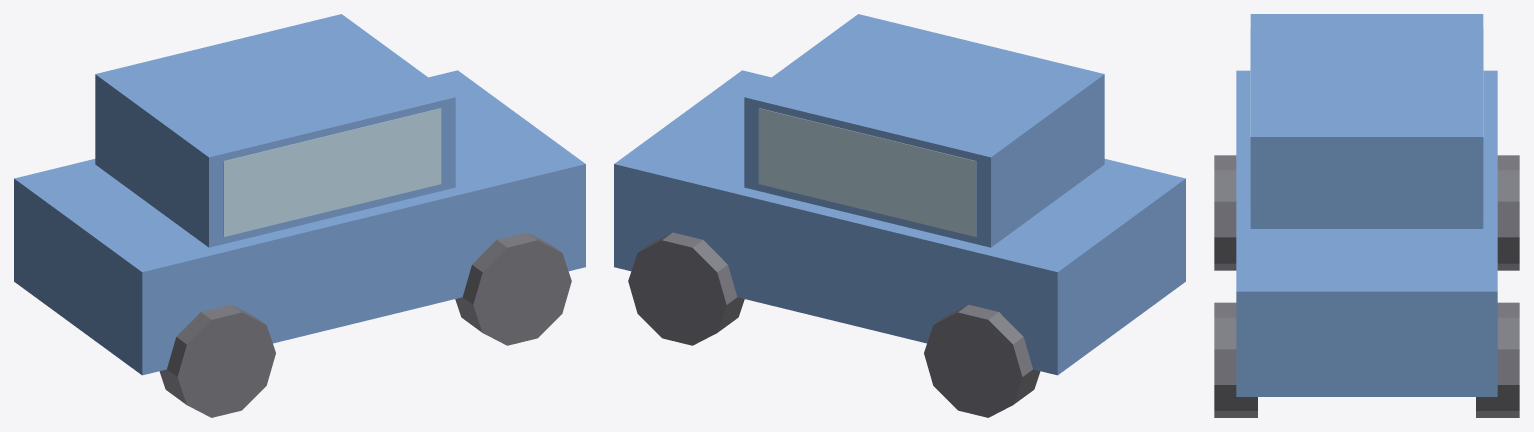
File: auto.glb
The picture shows the model from 3 angles, left to right: view 1: azimuth 30°, elevation 25°; view 2: azimuth 150°, elevation 25°; view 3: azimuth 270°, elevation 25°; orthographic projection. The views are drawn at different scales.
Visible parts, largest first — view 1: auto; view 2: auto; view 3: auto.
Part boxes in pixels (left/top/right/bottom): auto: left=14, top=14, right=585, bottom=417; auto: left=614, top=14, right=1185, bottom=417; auto: left=1214, top=14, right=1519, bottom=417.
Size of the model in its own units: 1.8 by 0.9452 by 1.05.
